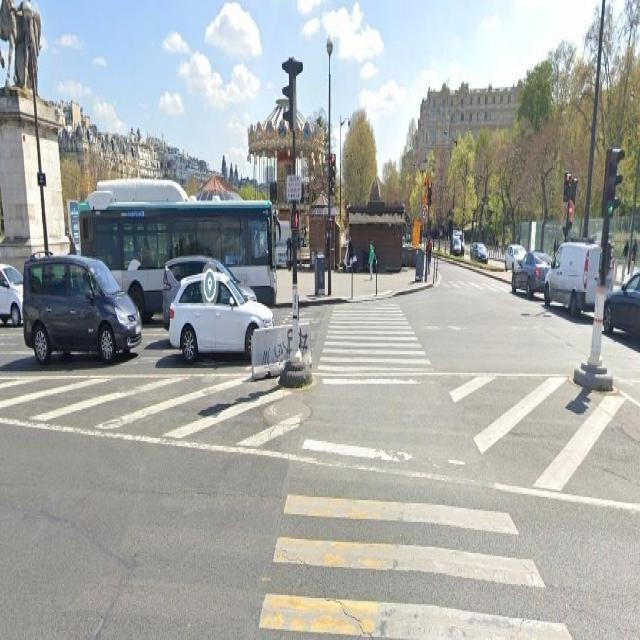bus: (70, 173, 294, 331)
car: (14, 250, 141, 381), (159, 270, 289, 391)
